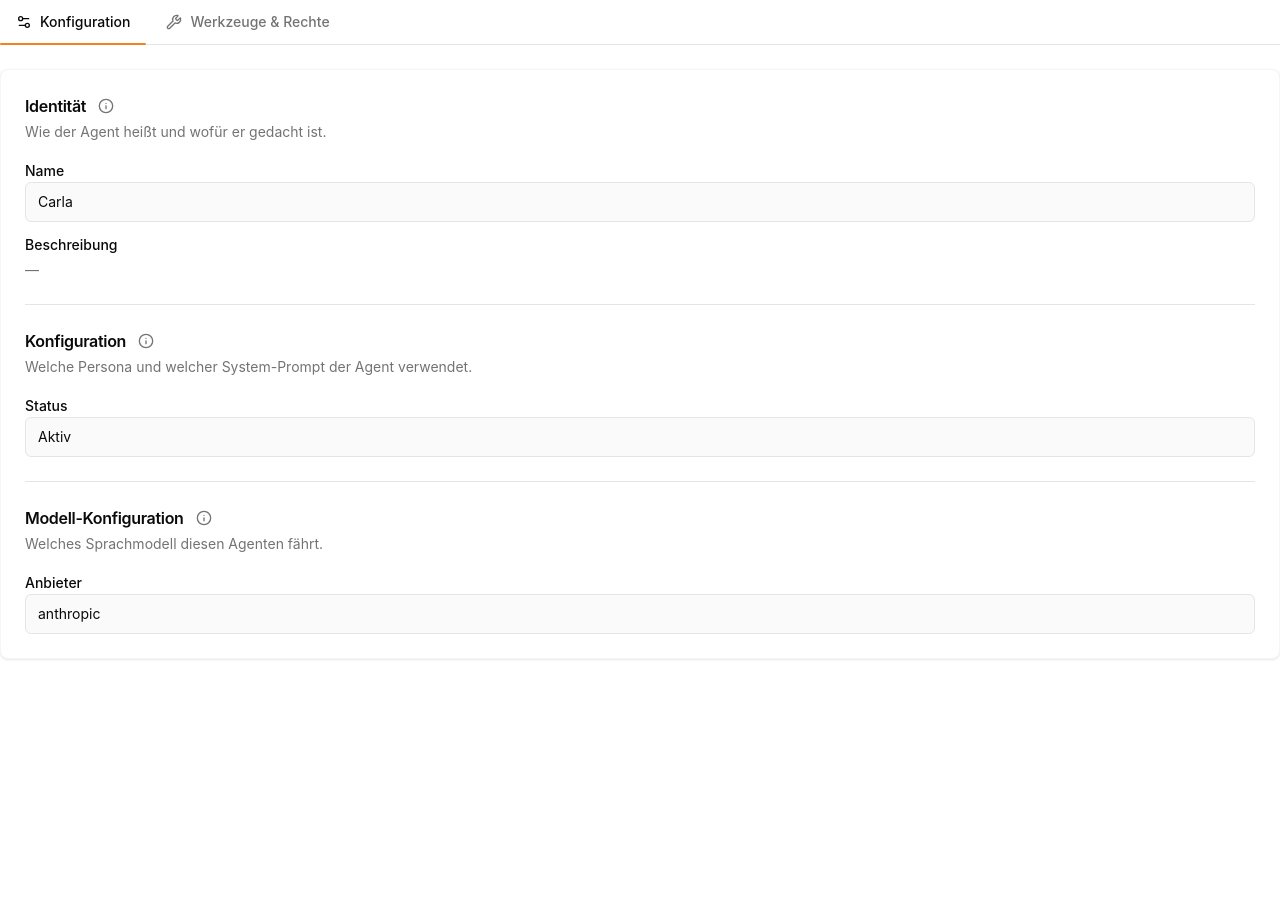
Test: AgentEditorForm › zeigt verwaltete Werte als Lesetext statt gesperrter Felder, ohne Speichern (Audit A7)
Expected: the text named "Status" reads "Aktiv", [38, 428, 71, 445]
Expected: the text named "Anbieter" reads "anthropic", [38, 605, 100, 622]
Click the tab "Werkzeuge & Rechte". click: (248, 22)
box: [150, 0, 346, 44]
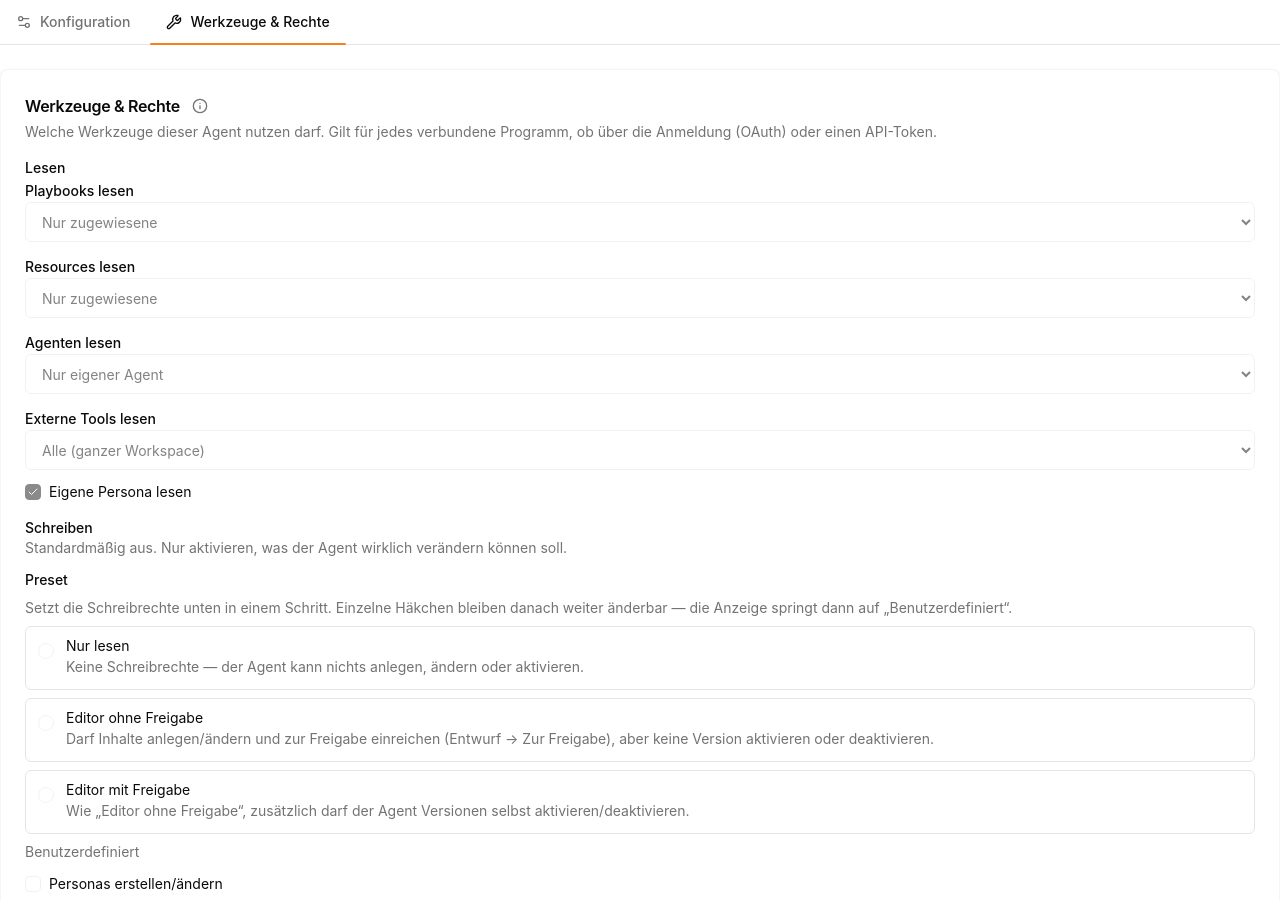
Expected: the dropdown labelled "Playbooks lesen" is disabled, [25, 202, 1255, 242]
